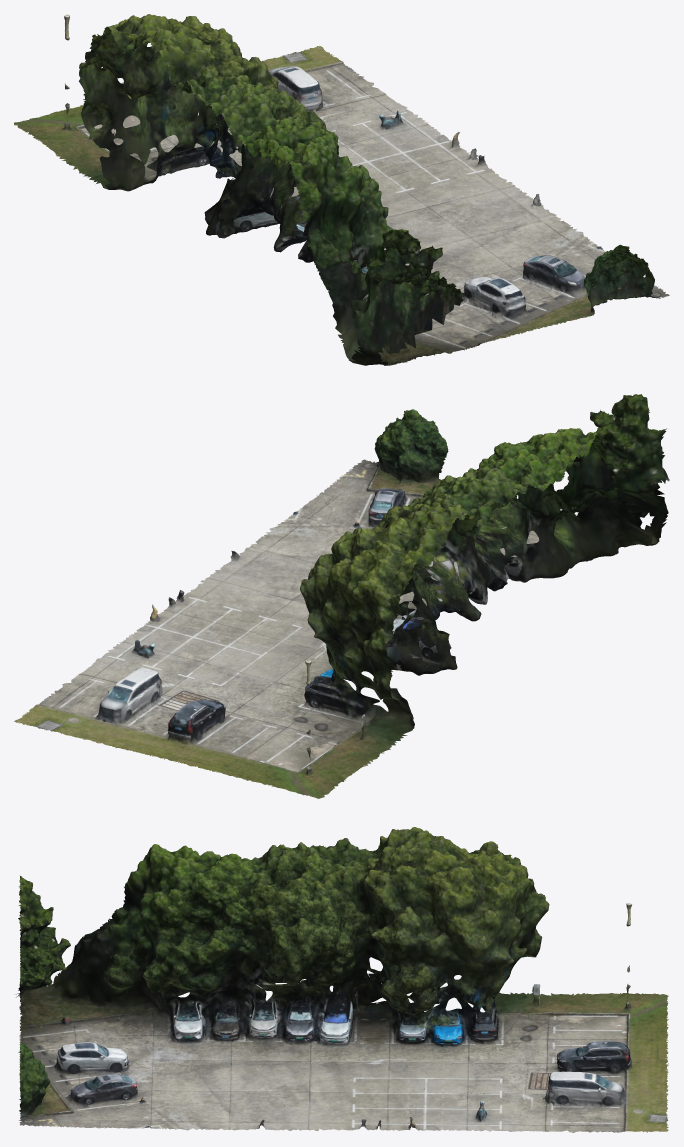
3 views of the same model, one above another, from view 1: azimuth 30°, elevation 25°; view 2: azimuth 150°, elevation 25°; view 3: azimuth 270°, elevation 25° (orthographic). The views are drawn at different scales.
Parts seen in each view (by area): view 1: Surface 1, Surface 3, Surface 2, Surface 4; view 2: Surface 1, Surface 3, Surface 2, Surface 4; view 3: Surface 1, Surface 2, Surface 3, Surface 4.
Boxes of the visible parts, box(x1,y1,x2,y2) form: Surface 1: box(14, 16, 669, 365); Surface 3: box(64, 14, 659, 365); Surface 2: box(65, 14, 654, 354); Surface 4: box(64, 14, 656, 348); Surface 1: box(14, 394, 656, 798); Surface 3: box(96, 394, 668, 774); Surface 2: box(101, 409, 669, 768); Surface 4: box(108, 397, 665, 773); Surface 1: box(18, 836, 668, 1132); Surface 2: box(16, 845, 636, 1130); Surface 3: box(18, 827, 659, 1129); Surface 4: box(20, 829, 635, 1127).
Bounding box in the file's own units: 22.58 × 12.87 × 44.19.
Materials: 4 (4 with a texture image).
